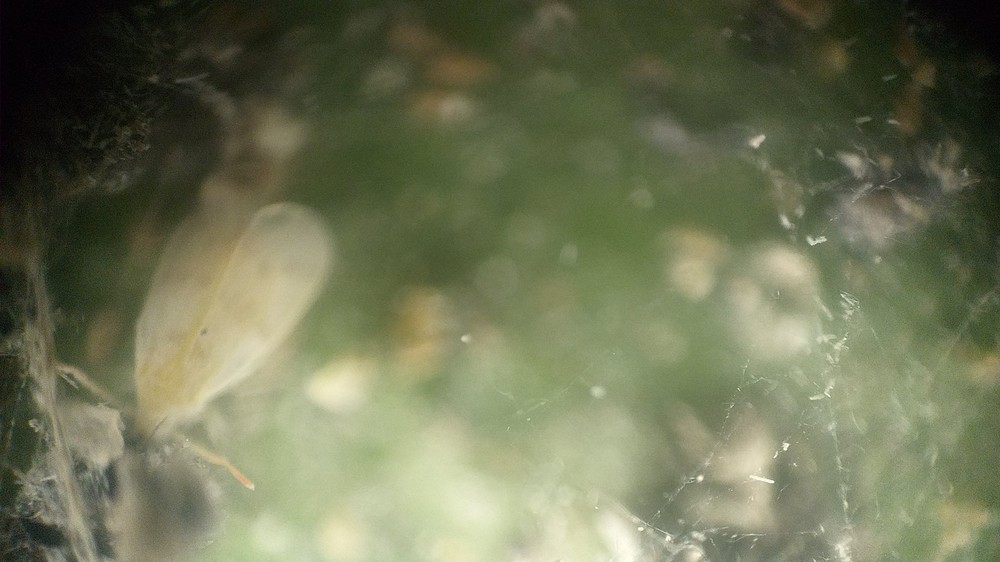Mosca Blanca: (94, 171, 354, 506)
